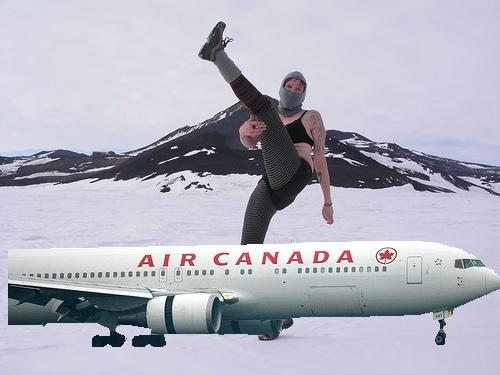tampered: (9, 239, 500, 347)
